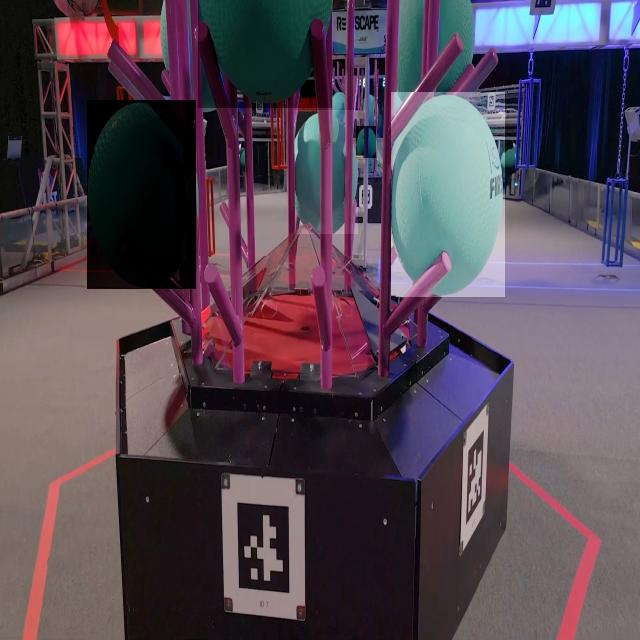Algae: (392, 92, 506, 297), (87, 100, 196, 289), (198, 0, 332, 108), (294, 110, 358, 234), (356, 126, 376, 158)
